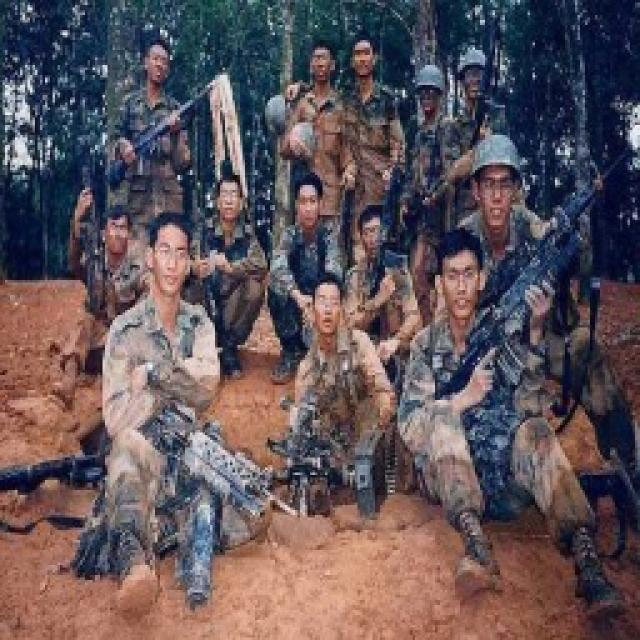long weapon: (436, 144, 624, 414), (107, 406, 316, 535), (103, 74, 231, 177)
